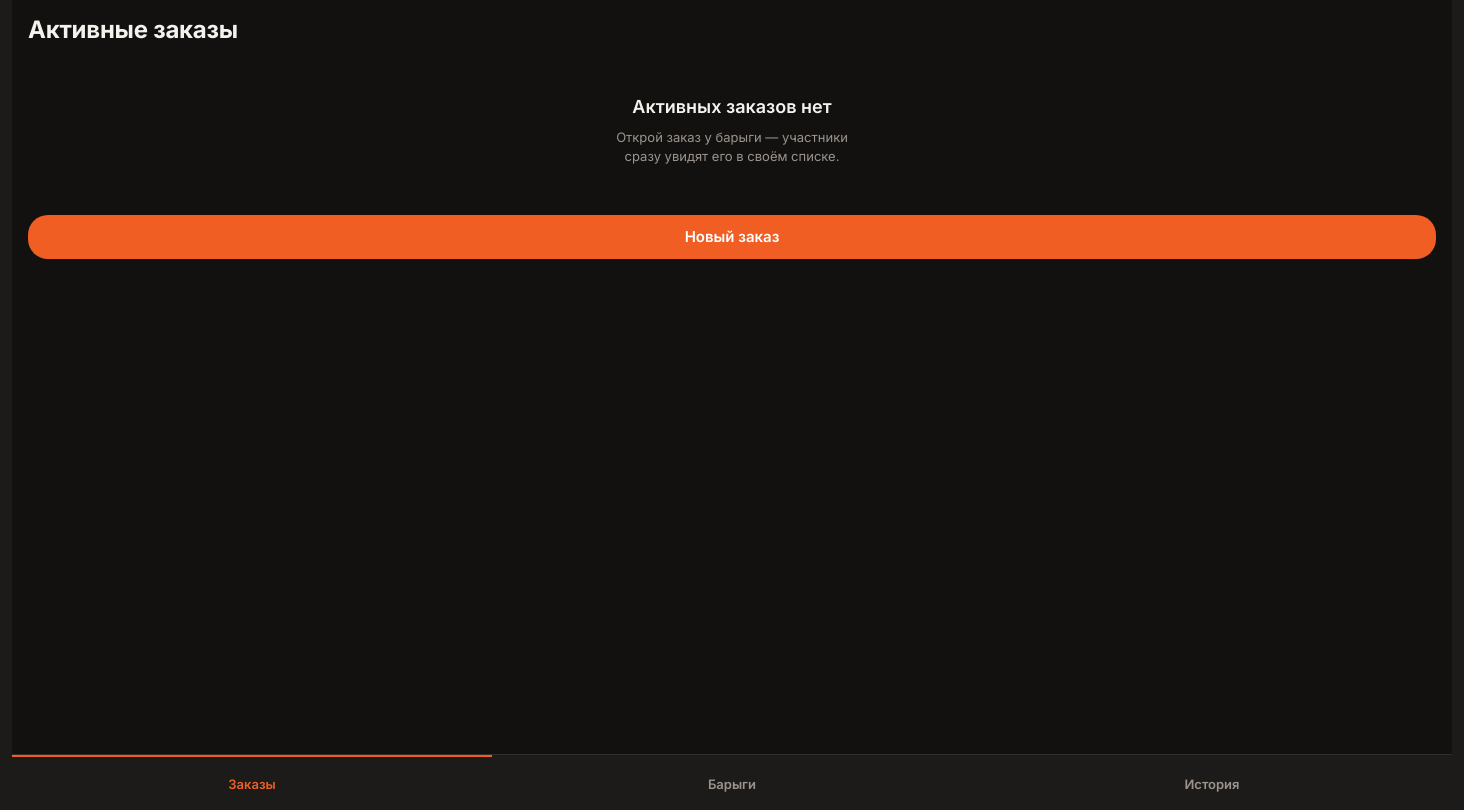
Scenario: App › switches to the vendors tab
Expected: the element with test id "shell" is shown, [28,15,1436,259]
Click the button "Барыги" at (732, 782), box [492,755,972,809]
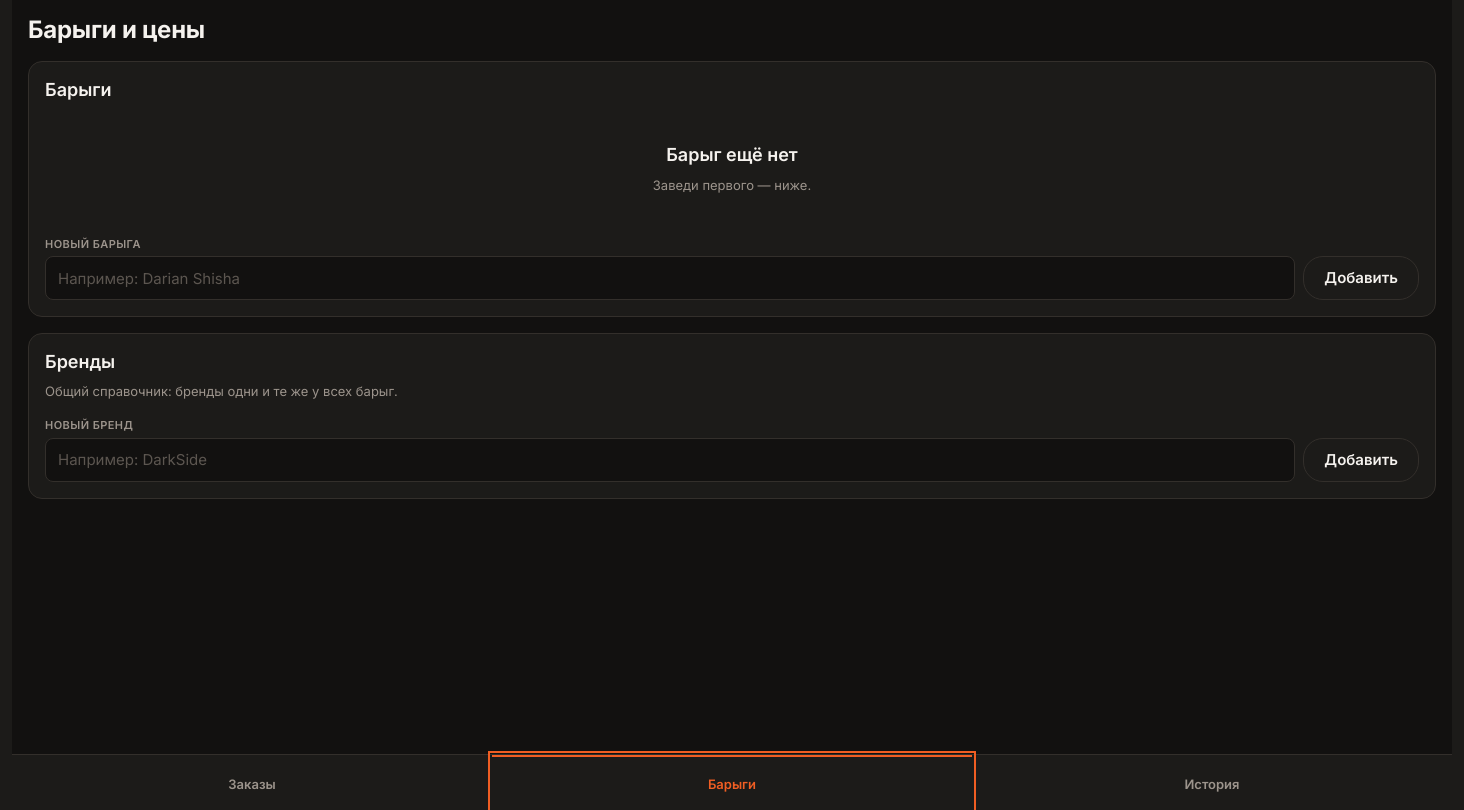
Expected: the heading "Барыги и цены" is shown, [28,15,205,44]
